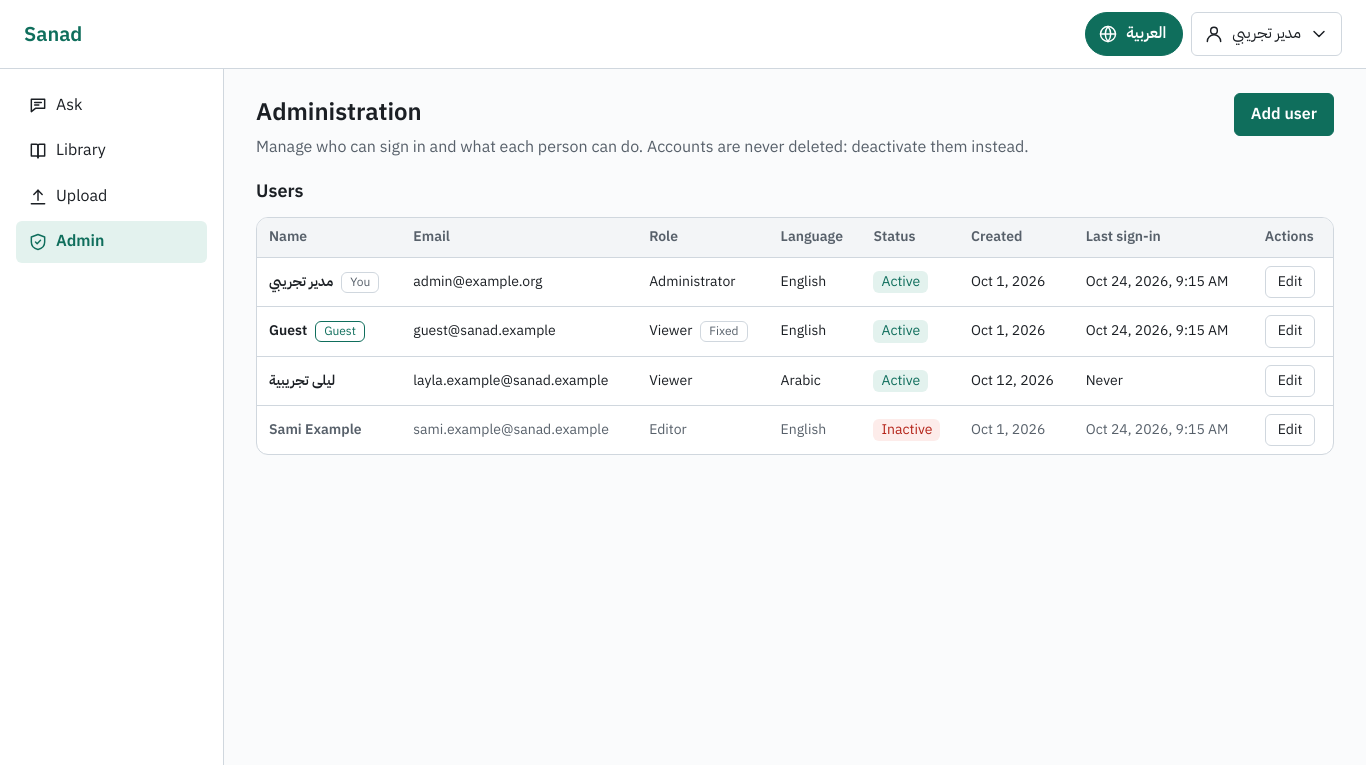
Test: create user › catches missing fields before any request
Expected: the table named "Users" is shown, [257,218,1333,454]
Click the button "Add user" at (1284, 114), box [1234,93,1334,136]
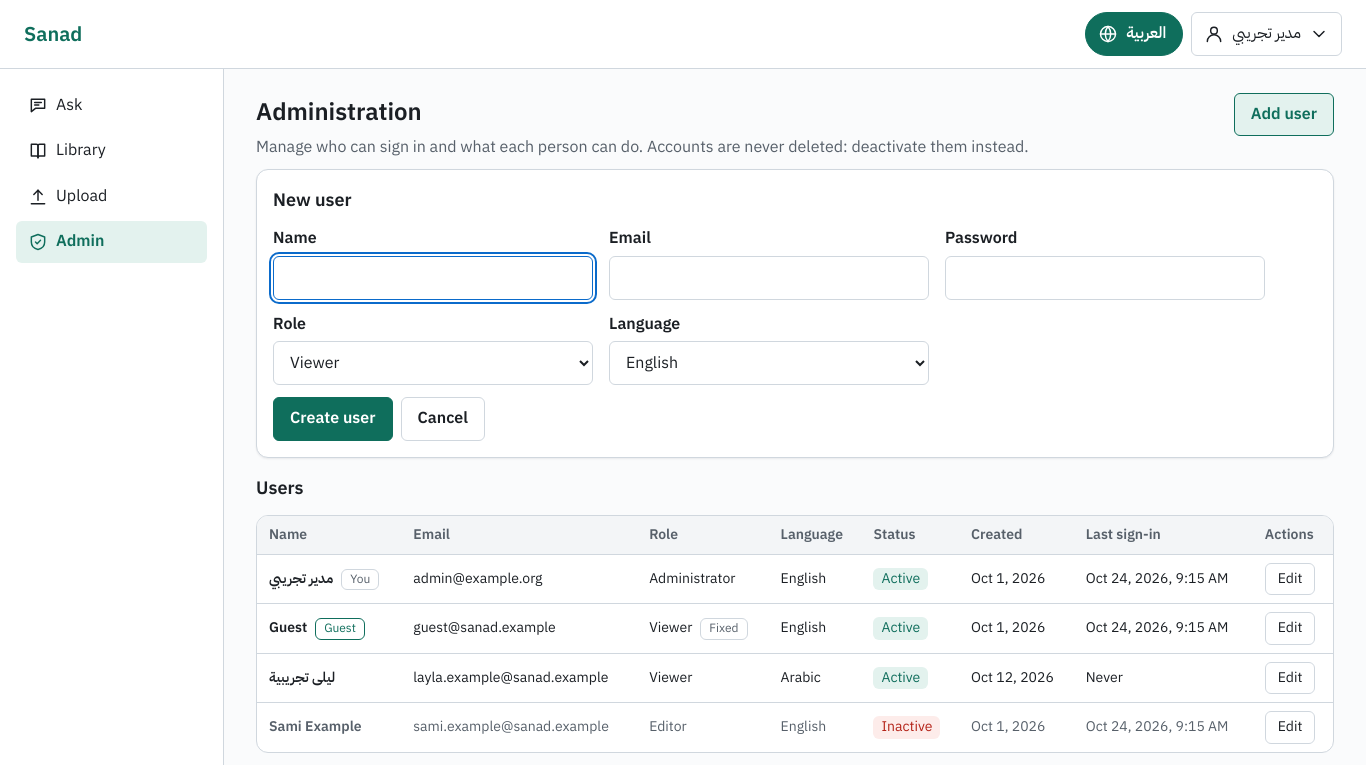
Type "Hala Example" into the field labelled "Name" at (433, 278), box [273,256,593,300]
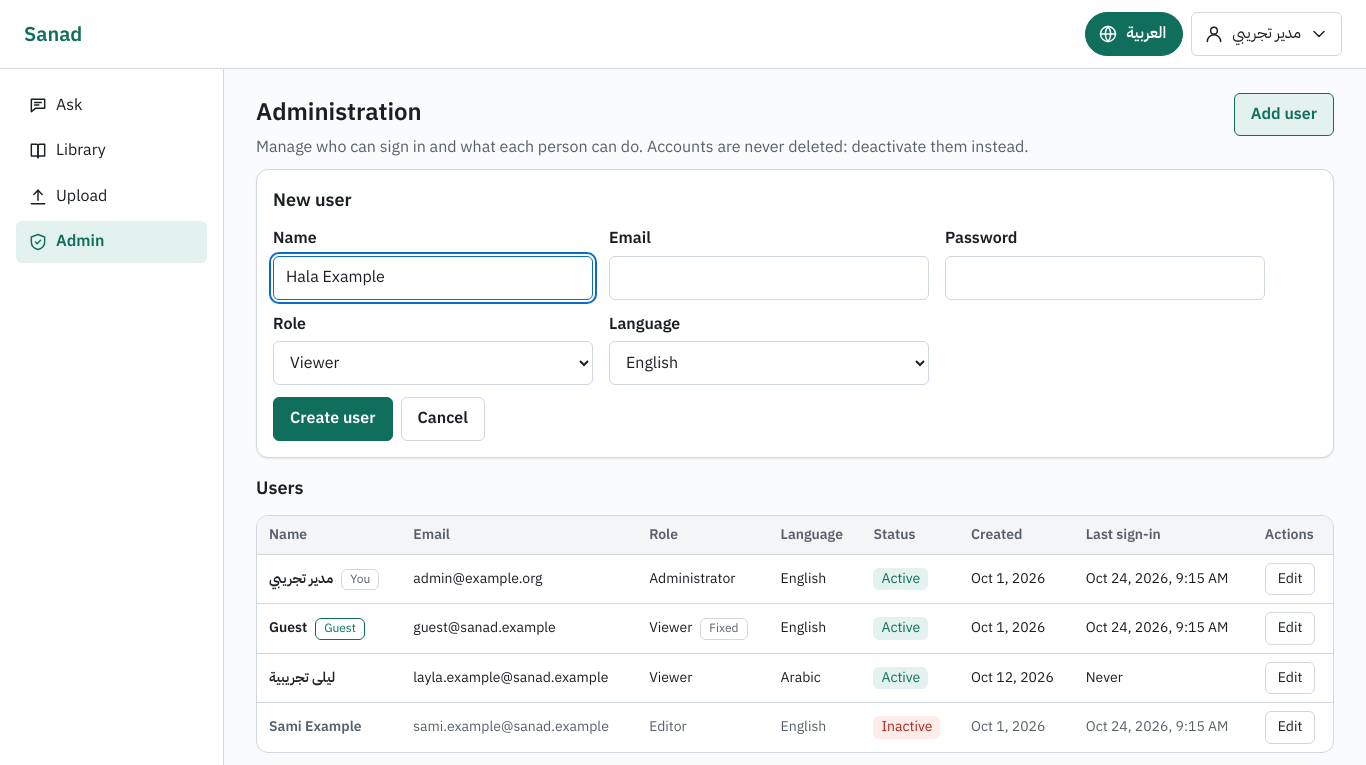
Click the button "Create user" at (333, 419), box [273,397,392,441]
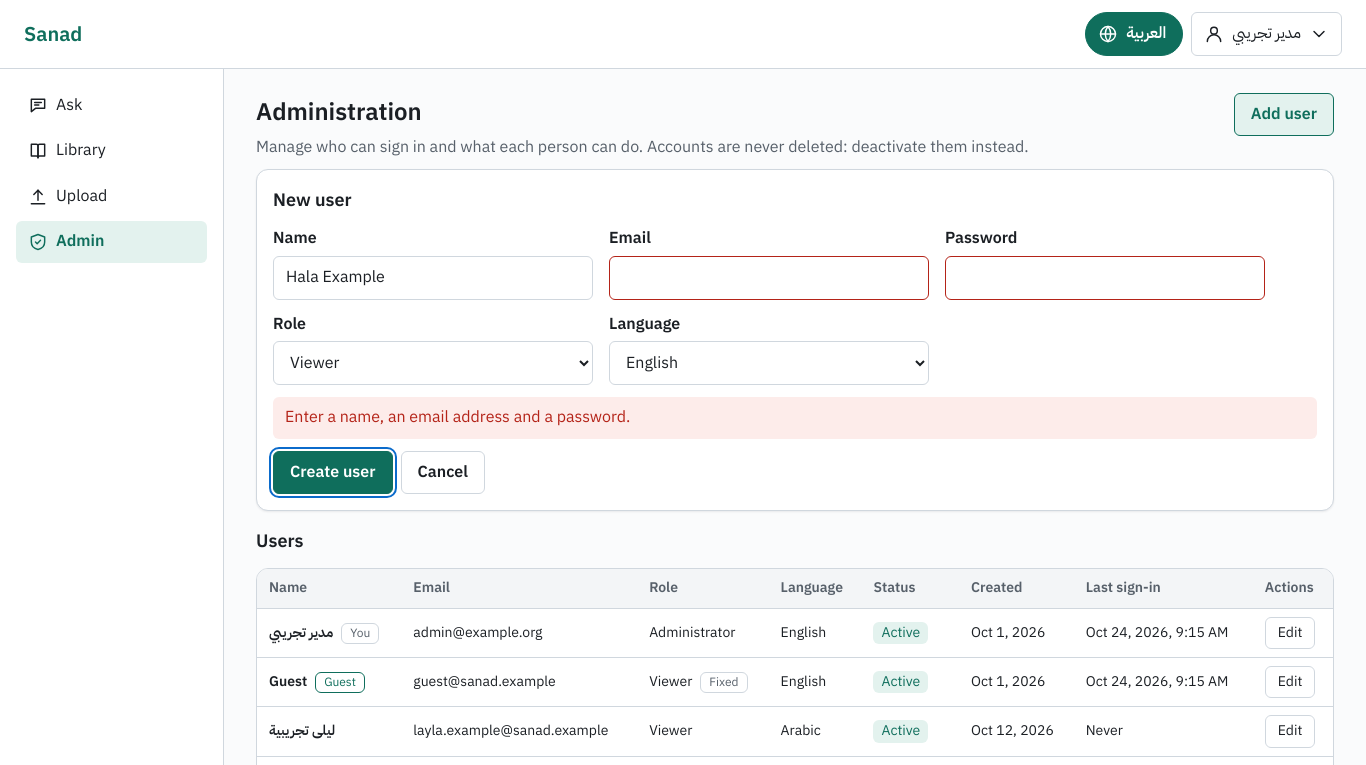
Now the message reads "Enter a name, an email address and a password.", box [285,405,630,429]
